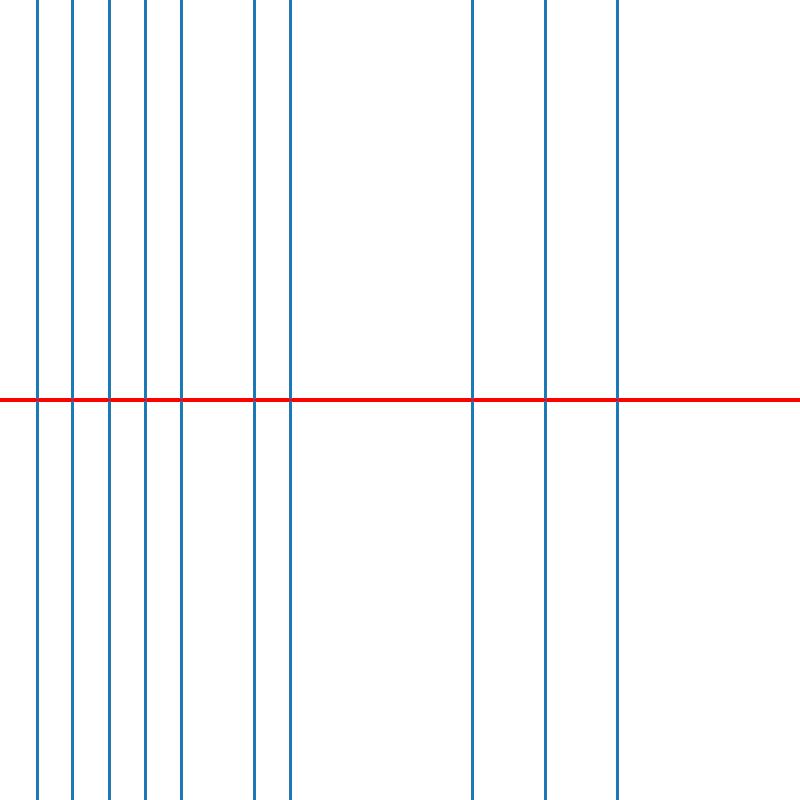root: (541, 396, 549, 404), (32, 396, 40, 404), (250, 396, 258, 404), (141, 396, 149, 404), (178, 396, 185, 404), (287, 396, 294, 404), (69, 396, 76, 404), (105, 396, 112, 404), (469, 396, 476, 404), (614, 396, 621, 404)
